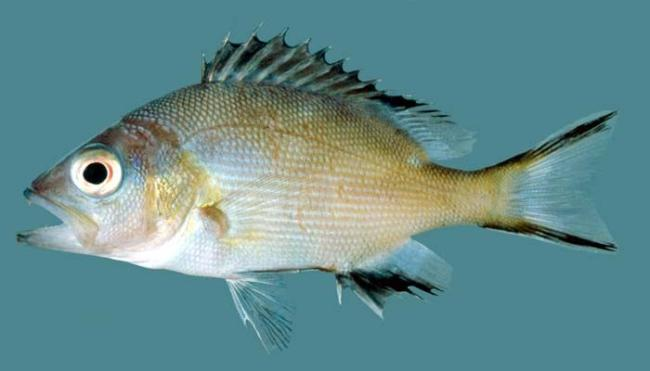fish: (16, 20, 622, 358)
